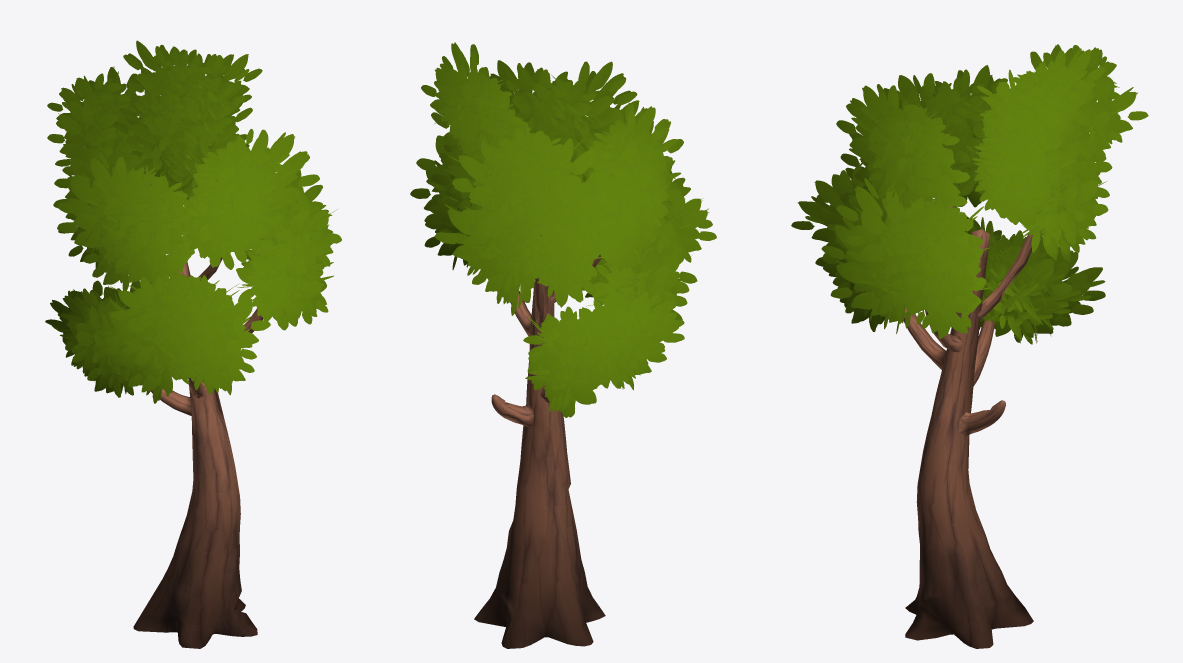
Rendered from CommonTree_5.glb.
3 views of the same model, side by side, from view 1: azimuth 30°, elevation 25°; view 2: azimuth 150°, elevation 25°; view 3: azimuth 270°, elevation 25° (orthographic). The views are drawn at different scales.
Visible parts, largest first — view 1: CommonTree_5; view 2: CommonTree_5; view 3: CommonTree_5.
Part boxes in pixels (left/top/right/bottom): CommonTree_5: left=45, top=40, right=341, bottom=648; CommonTree_5: left=410, top=42, right=716, bottom=648; CommonTree_5: left=791, top=44, right=1148, bottom=648.
Size of the model in its own units: 3.67 by 7.01 by 4.22.
Materials: 2 (2 with a texture image).
